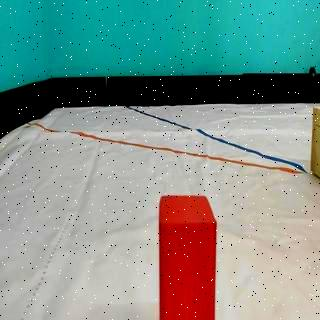redbox: (159, 197, 213, 320)
